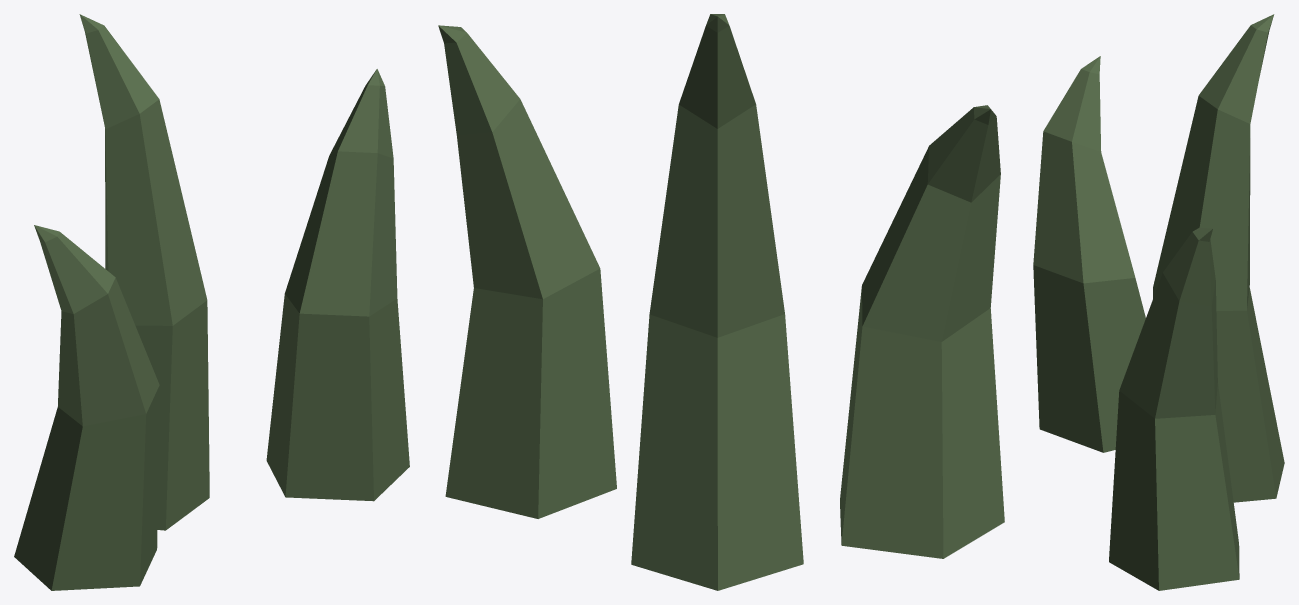
Rendered from Trawa_2.fbx.
3 renders of one model, left to right at view 1: azimuth 30°, elevation 25°; view 2: azimuth 150°, elevation 25°; view 3: azimuth 270°, elevation 25°, orthographic. The views are drawn at different scales.
Visible parts, largest first — view 1: Cylinder.002; view 2: Cylinder.002; view 3: Cylinder.002.
Part boxes in pixels (x1=…): Cylinder.002: x1=14, y1=14, x2=409, y2=590; Cylinder.002: x1=438, y1=14, x2=1004, y2=590; Cylinder.002: x1=1033, y1=14, x2=1284, y2=590.
Bounding box in the file's own units: 8.09 × 9.01 × 4.55.
